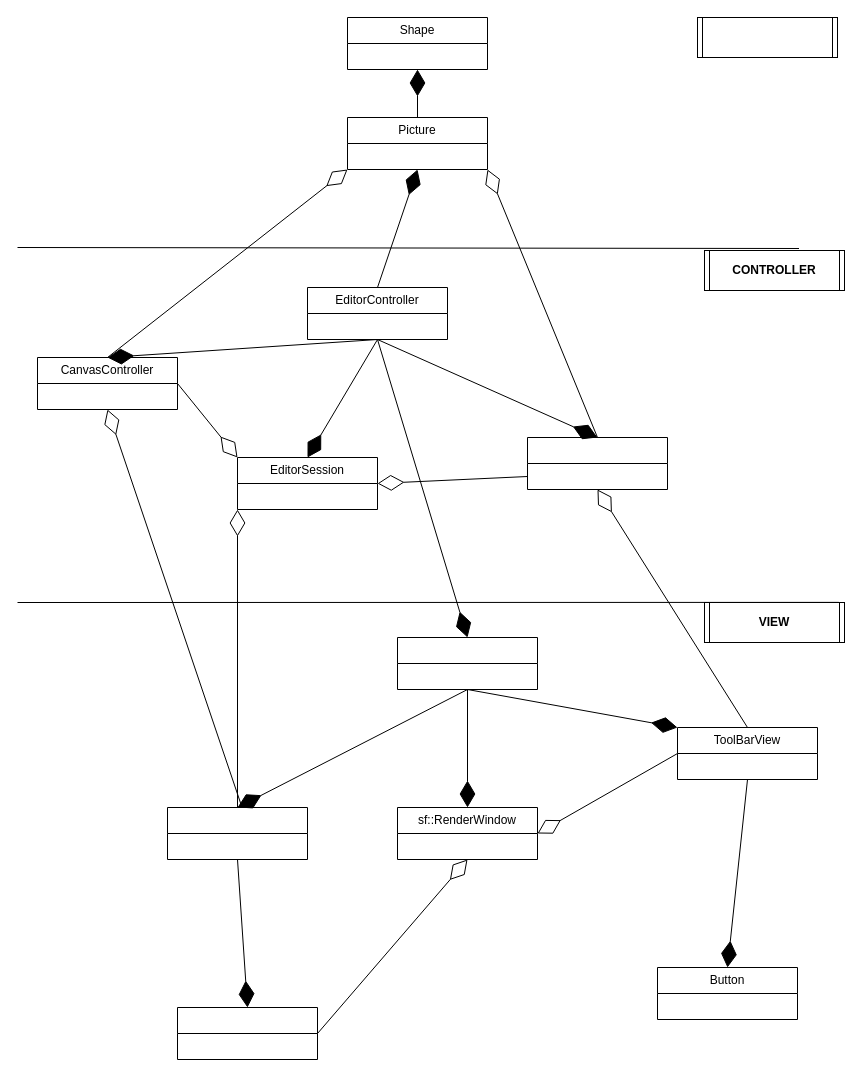
Image size: 862x1077. Some labels were removed from this diagram. Here are the shapes that lost their labels. From the top down, the centre of each, then its label:
[767,37]: MODEL
[597,463]: ToolBarController
[467,663]: EditorWindow
[237,833]: CanvasView
[247,1033]: PictureRenderer
